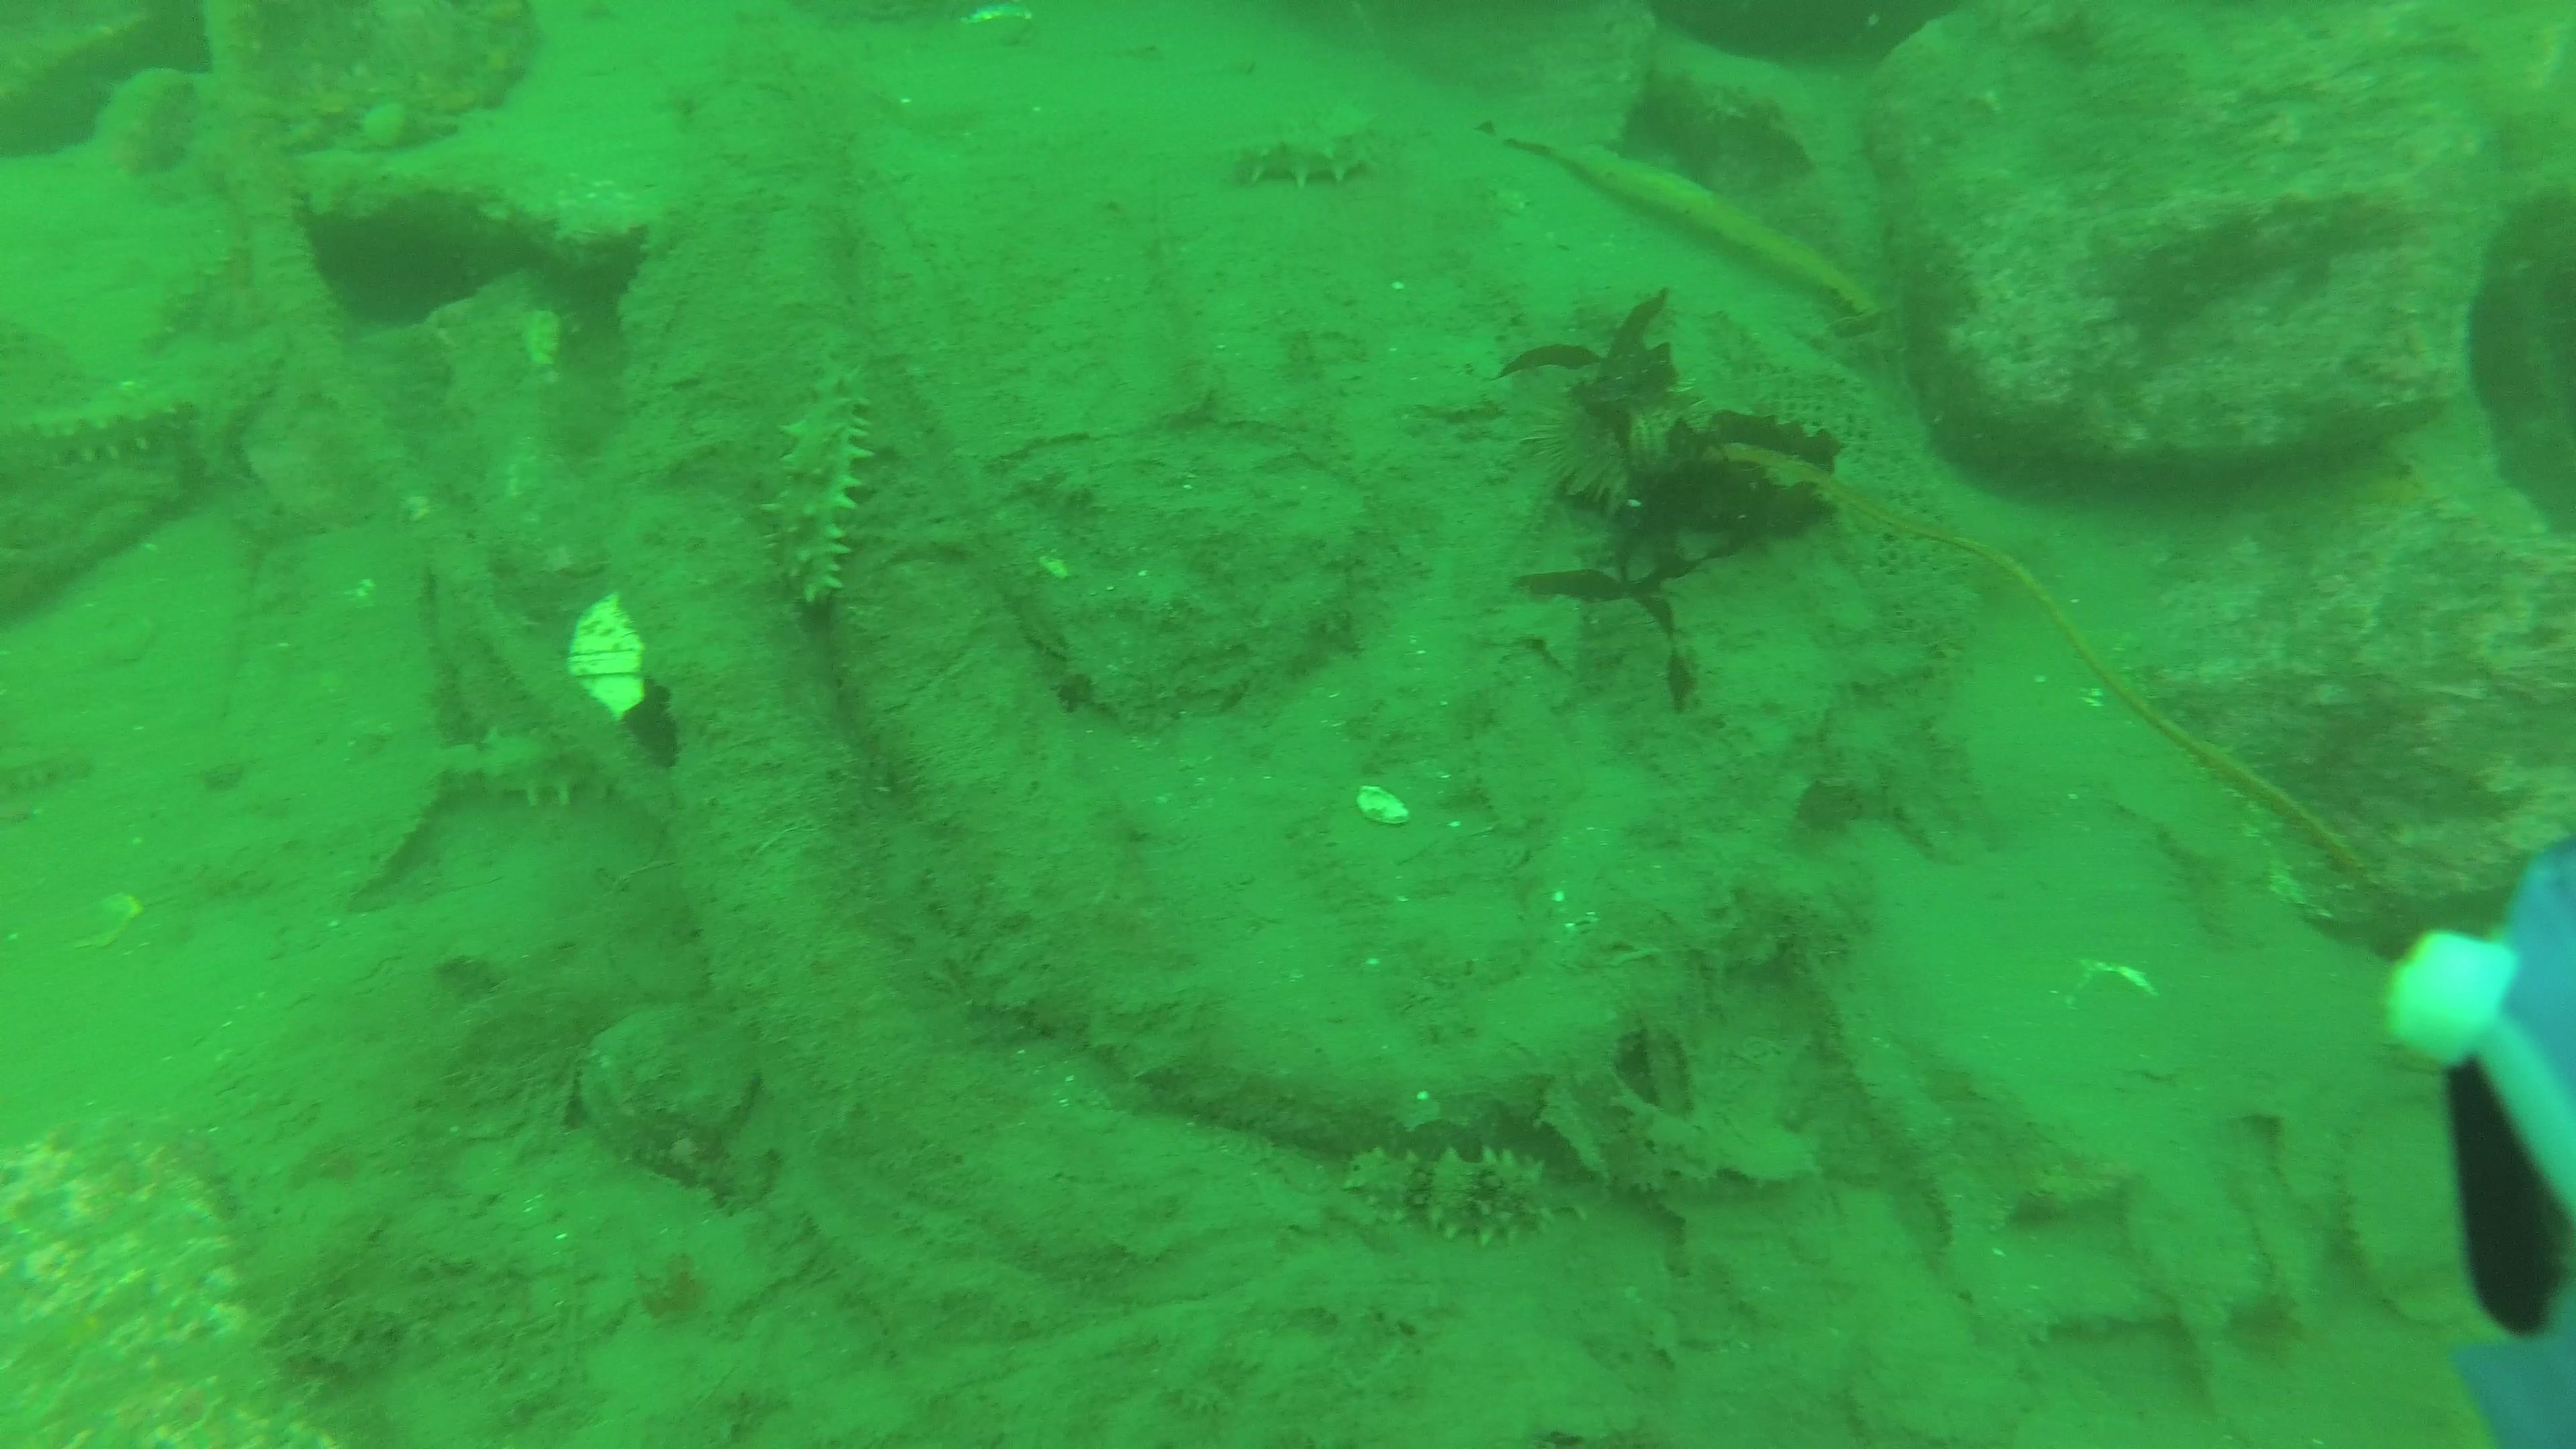echinus: (1522, 375, 1721, 525)
holothurian: (757, 354, 879, 625), (1332, 1131, 1610, 1247), (7, 387, 211, 478), (1214, 103, 1396, 195), (421, 725, 605, 812)
